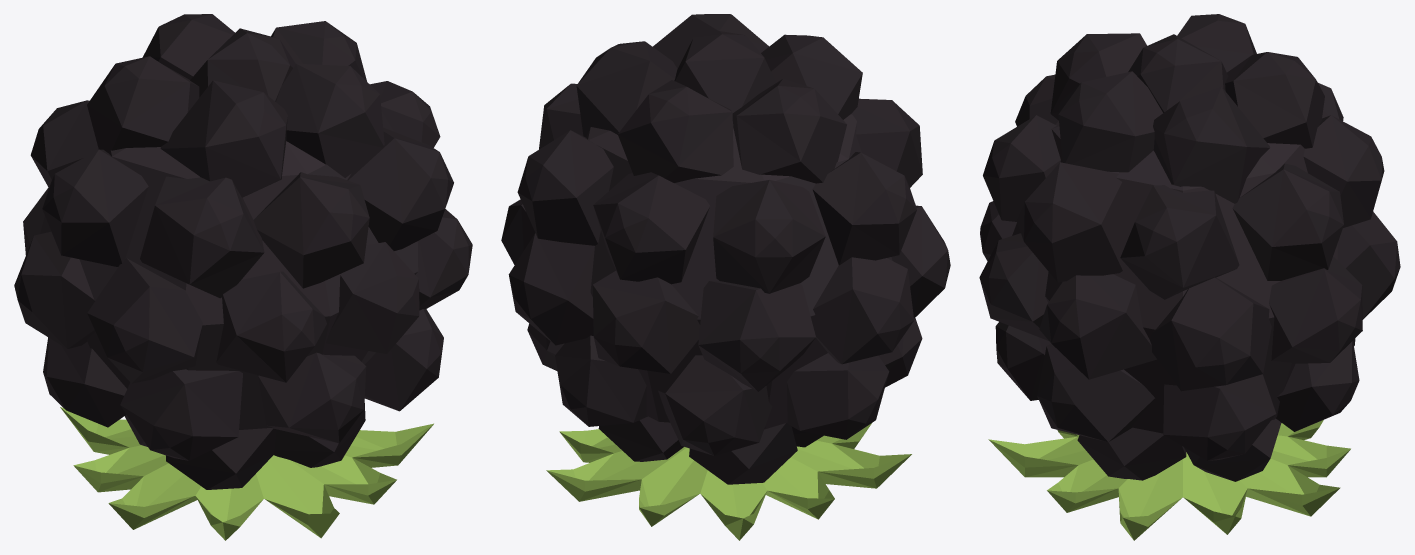
Rendered from fallen-blackberry-27dc5a.glb.
3 views of the same model, side by side, from view 1: azimuth 30°, elevation 25°; view 2: azimuth 150°, elevation 25°; view 3: azimuth 270°, elevation 25° (orthographic). The views are drawn at different scales.
Parts seen in each view (by area): view 1: blackberry-gloss, blackberry-matte; view 2: blackberry-gloss, blackberry-matte; view 3: blackberry-gloss, blackberry-matte.
Part boxes in pixels (x1,y1,x2,y2): blackberry-gloss: [14, 14, 472, 489]; blackberry-matte: [60, 141, 433, 540]; blackberry-gloss: [501, 14, 950, 484]; blackberry-matte: [546, 114, 911, 540]; blackberry-gloss: [979, 14, 1400, 481]; blackberry-matte: [988, 121, 1350, 540].
Size of the model in its own units: 1.88 by 1.99 by 1.72.
